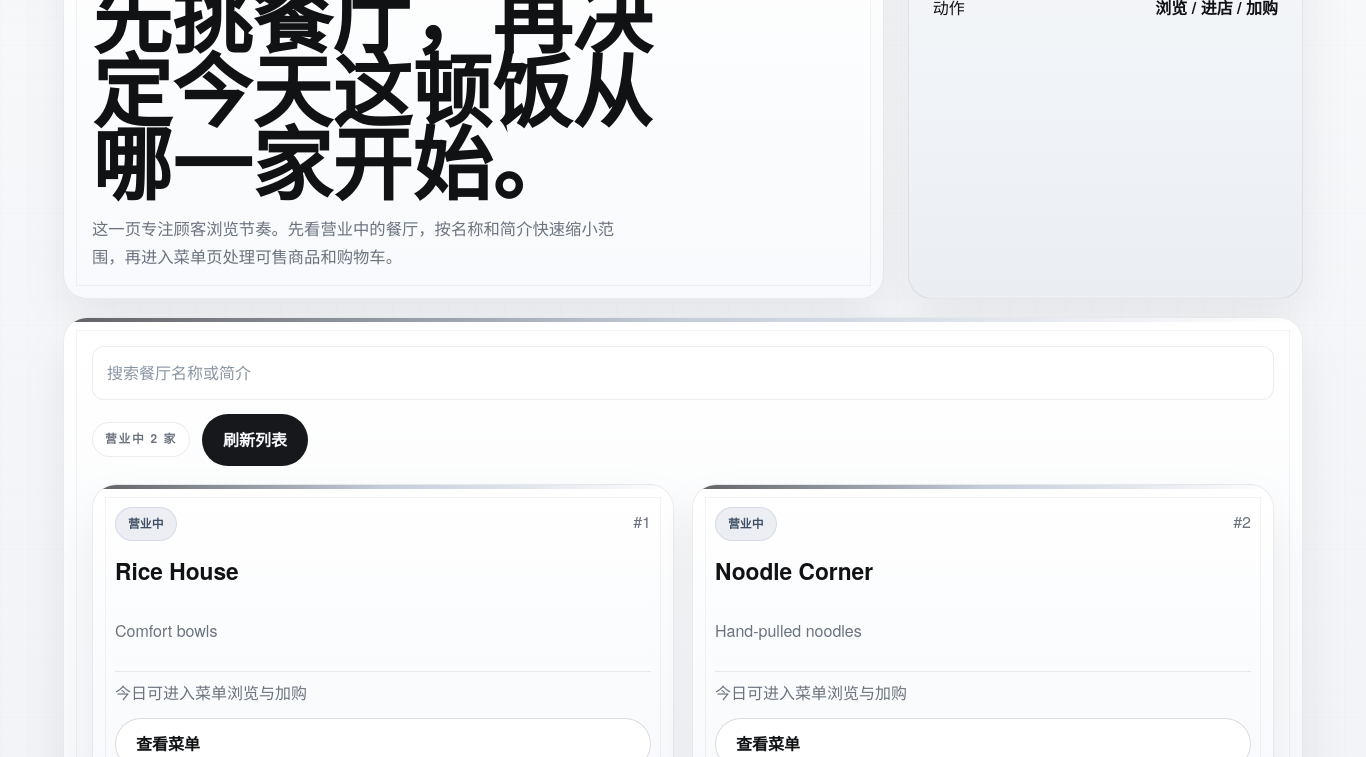
Scenario: CustomerRestaurants › shows an empty search result state when no restaurant matches
(page scrolled)
Expected: the heading "Rice House" is shown, x1=115 y1=554 x2=239 y2=588
Type "sushi" into the field with placeholder "搜索餐厅名称或简介" at (683, 373), box x1=92 y1=346 x2=1274 y2=400
(page scrolled)
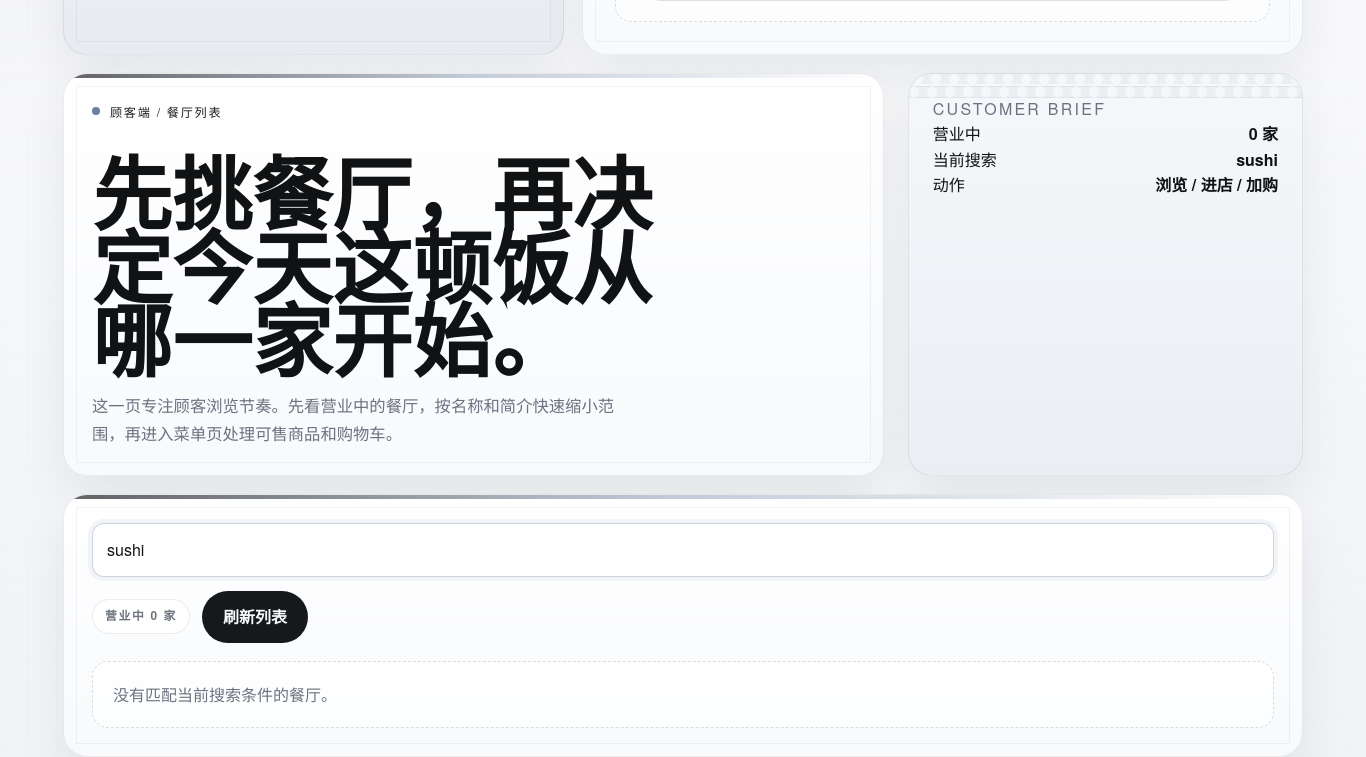
Now the text "没有匹配当前搜索条件的餐厅。" is shown, box x1=92 y1=660 x2=1274 y2=728
